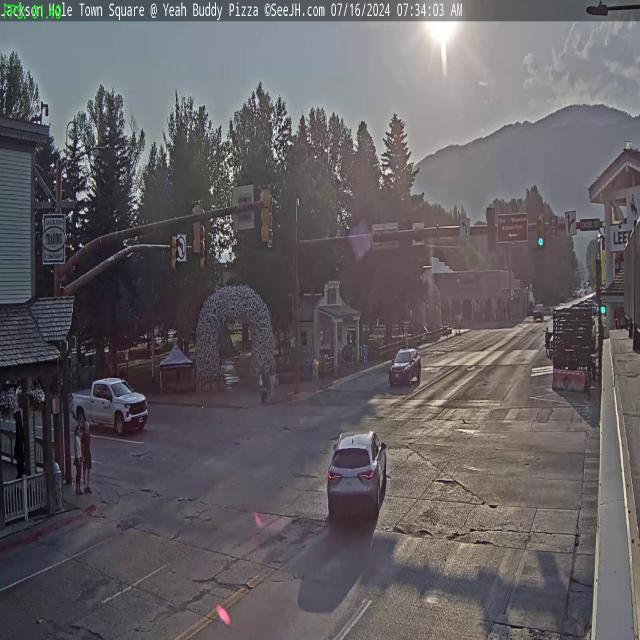person: (77, 406, 89, 492), (72, 432, 84, 492), (270, 354, 278, 406), (261, 357, 268, 399)
pickup: (64, 380, 149, 437)
suv: (325, 428, 388, 527), (388, 345, 422, 388)
traffic light: (260, 183, 274, 244), (190, 200, 203, 256), (486, 208, 497, 255), (536, 214, 546, 248), (171, 232, 178, 270)
